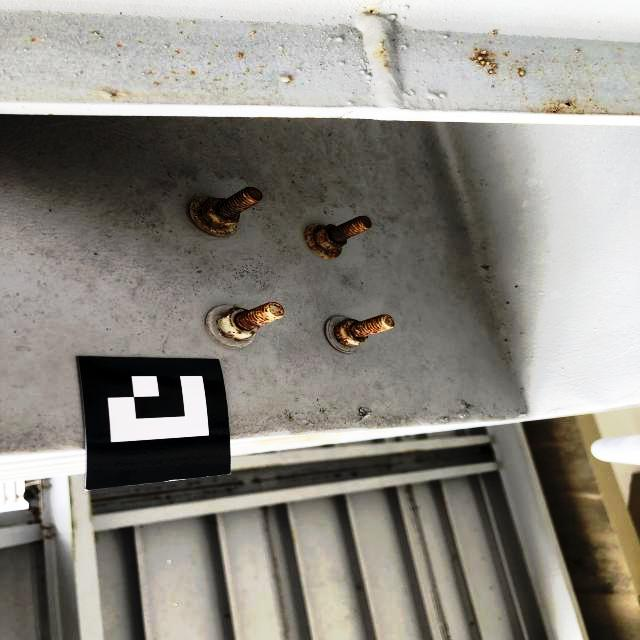Corrosion: (189, 187, 263, 236), (304, 216, 372, 260), (217, 302, 285, 341), (333, 314, 395, 347), (528, 97, 591, 115), (468, 48, 498, 76), (24, 487, 39, 503), (27, 507, 40, 524), (518, 67, 526, 77), (285, 75, 293, 84), (238, 51, 244, 58), (111, 93, 119, 96), (369, 9, 373, 14), (502, 52, 507, 56), (190, 70, 194, 75), (492, 31, 498, 34)
